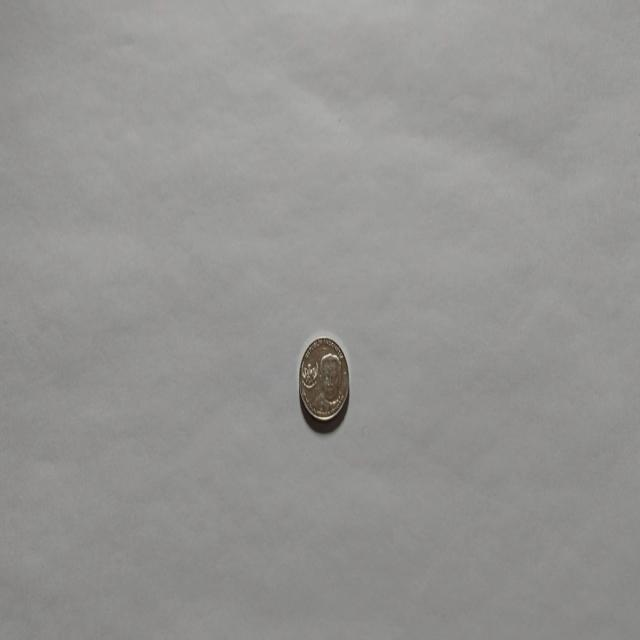seratus rupiah: (298, 335, 350, 425)
